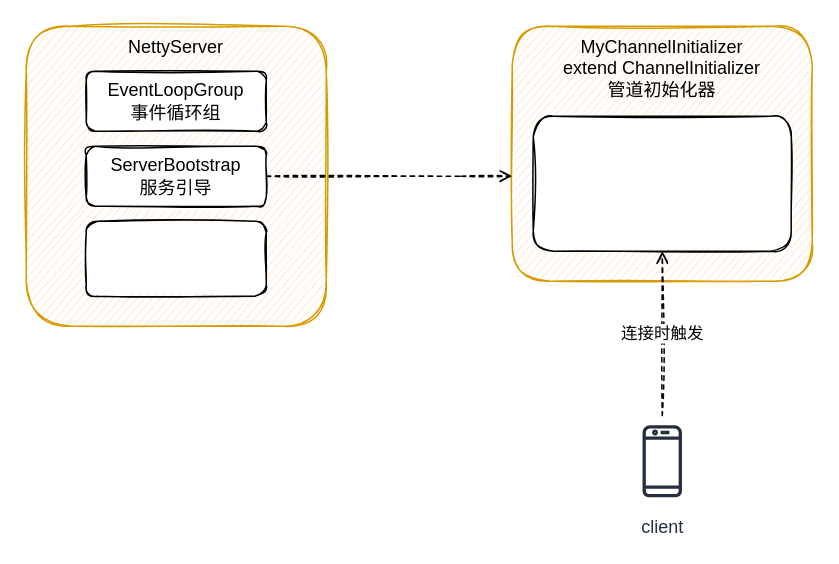
Some shapes in this 839 by 564 pixel diagram are drawn without their labels. The centre of each missing label's shape, as x and y in pixels:
"#initChannel() 初始化管道 有客户端Client访问时触发" belongs at [661,183].
"ChannelFuture 管道的将来时态" belongs at [175,258].
